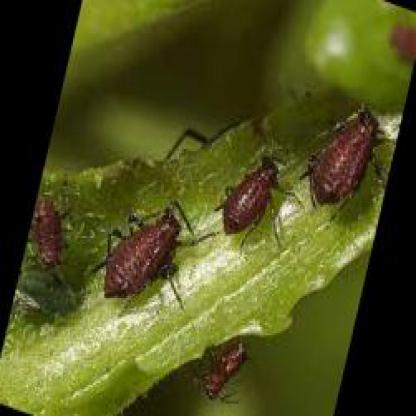uroleucon compositae: (309, 111, 379, 210), (105, 209, 182, 297), (217, 157, 285, 244)
